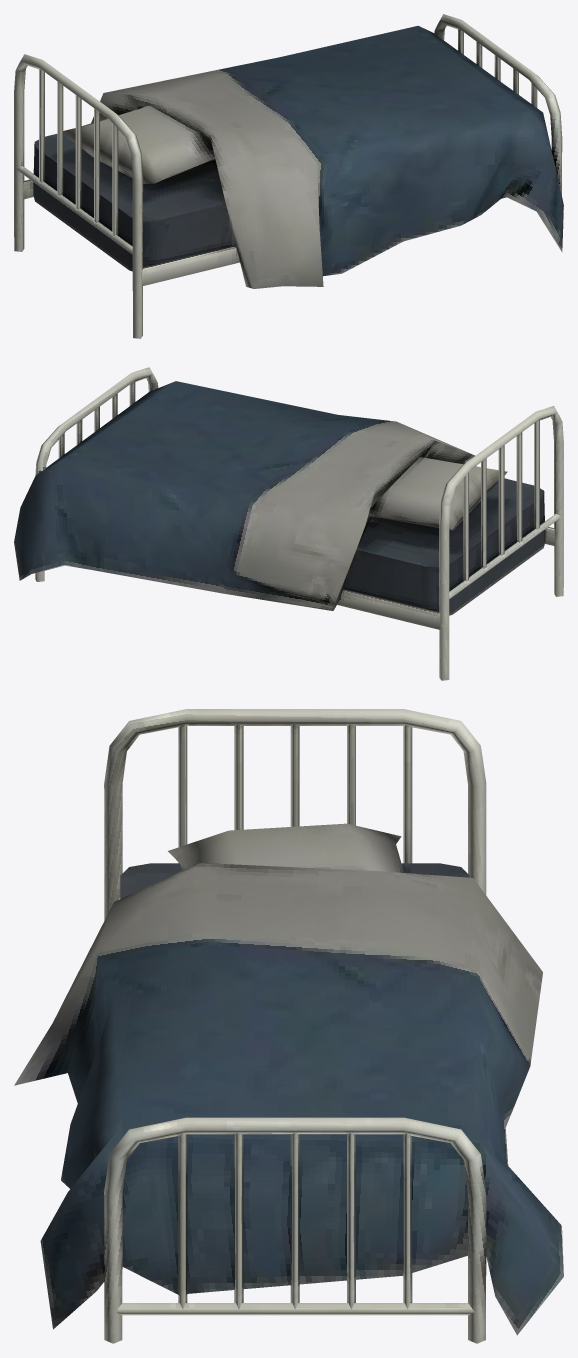
The model's file is bed.glb.
3 views of the same model, one above another, from view 1: azimuth 30°, elevation 25°; view 2: azimuth 150°, elevation 25°; view 3: azimuth 270°, elevation 25° (orthographic). The views are drawn at different scales.
Visible parts, largest first — view 1: Object_4; view 2: Object_4; view 3: Object_4.
Part boxes in pixels (bbox=[...]): Object_4: bbox=[14, 14, 563, 338]; Object_4: bbox=[14, 367, 563, 680]; Object_4: bbox=[14, 709, 563, 1343].
Bounding box in the file's own units: 2.24 × 0.9983 × 1.56.
Materials: 1 (1 with a texture image).
